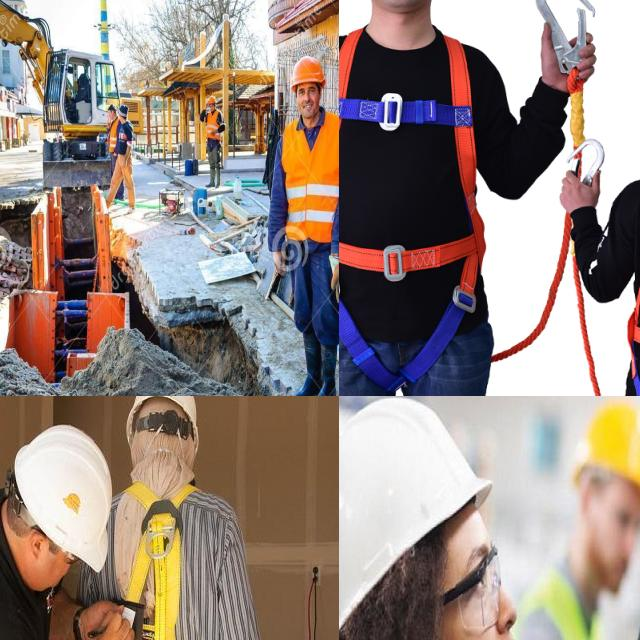Harness: (339, 29, 484, 390), (115, 482, 197, 640)
boots: (289, 331, 321, 396), (314, 332, 339, 396), (213, 170, 224, 190), (204, 170, 216, 188)
face_nomask: (432, 524, 529, 640), (298, 84, 320, 112)
glasses: (450, 536, 505, 640)
hand_glove: (325, 254, 339, 305)
hand_noglove: (266, 246, 292, 283)
head_helmet: (339, 396, 487, 586), (576, 399, 640, 490), (290, 57, 324, 84), (204, 95, 219, 103)
person: (339, 396, 530, 640), (521, 396, 640, 640), (277, 61, 339, 396), (199, 97, 228, 189), (113, 105, 137, 210), (98, 105, 119, 151)
vest: (524, 559, 614, 640), (281, 119, 339, 234), (203, 110, 225, 138), (108, 119, 119, 149)
